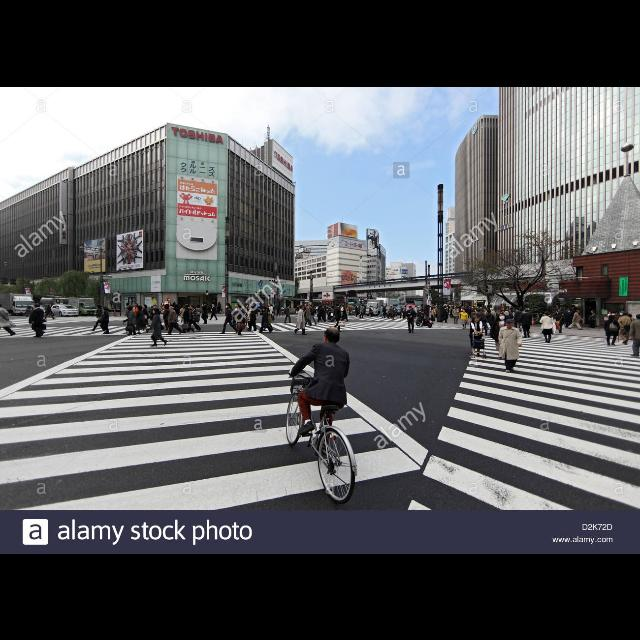head: (323, 327, 341, 345), (506, 320, 514, 328), (474, 315, 481, 323), (499, 312, 506, 320), (153, 306, 159, 314), (545, 310, 551, 316), (34, 303, 40, 309), (610, 314, 614, 320), (226, 303, 230, 309), (168, 306, 174, 310), (129, 306, 133, 312), (103, 306, 107, 312), (525, 308, 529, 312), (409, 305, 413, 309), (301, 305, 305, 309), (97, 304, 101, 308), (202, 302, 205, 306), (624, 312, 628, 314), (576, 310, 580, 312), (558, 312, 562, 314), (516, 308, 520, 310), (455, 306, 457, 310), (288, 304, 290, 308), (48, 304, 52, 306), (0, 304, 2, 308), (212, 304, 215, 306), (336, 304, 339, 306), (592, 310, 594, 312), (463, 310, 465, 312)
person: (286, 326, 352, 450), (498, 318, 524, 374), (489, 311, 511, 357), (148, 306, 170, 348), (28, 302, 48, 338), (218, 302, 240, 334), (468, 314, 484, 356), (0, 303, 18, 337), (539, 310, 557, 342), (603, 314, 621, 346), (616, 311, 632, 344), (166, 306, 184, 334), (294, 304, 308, 336), (90, 304, 106, 332), (404, 304, 418, 334), (124, 305, 138, 335), (332, 302, 346, 332), (521, 307, 533, 338), (98, 305, 110, 335), (568, 308, 584, 330), (554, 310, 566, 334), (513, 308, 523, 334), (457, 308, 469, 329), (44, 302, 56, 320), (283, 303, 293, 323), (208, 303, 218, 321), (202, 302, 210, 324), (588, 309, 596, 329), (452, 306, 460, 324)
